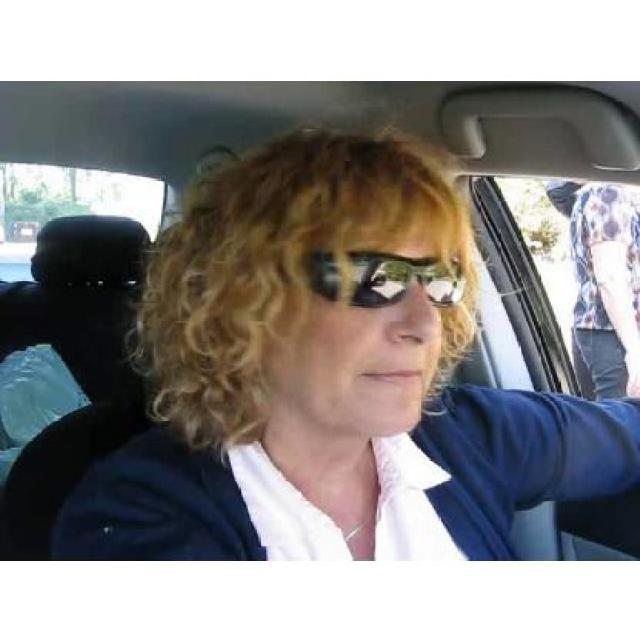attentif: (265, 128, 470, 435)
